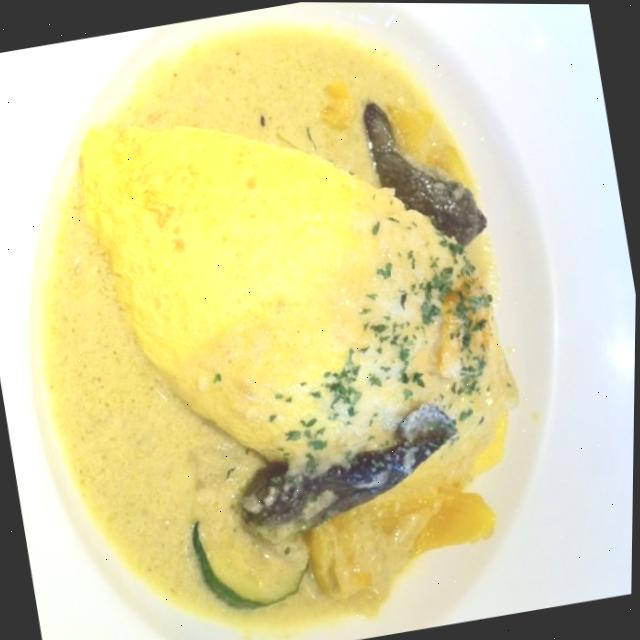面包点心: (12, 13, 623, 442)
